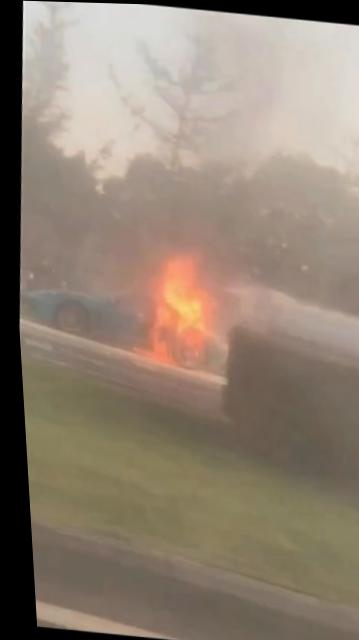fire: (132, 252, 223, 374)
